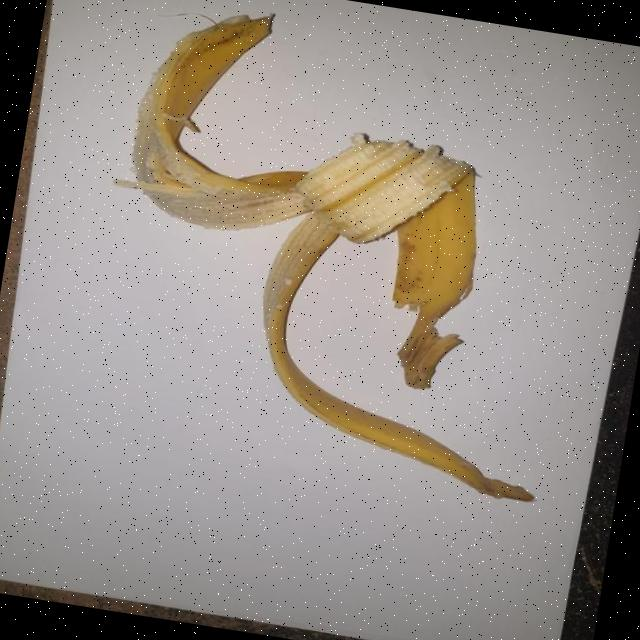banana-peel: (75, 0, 603, 505)
